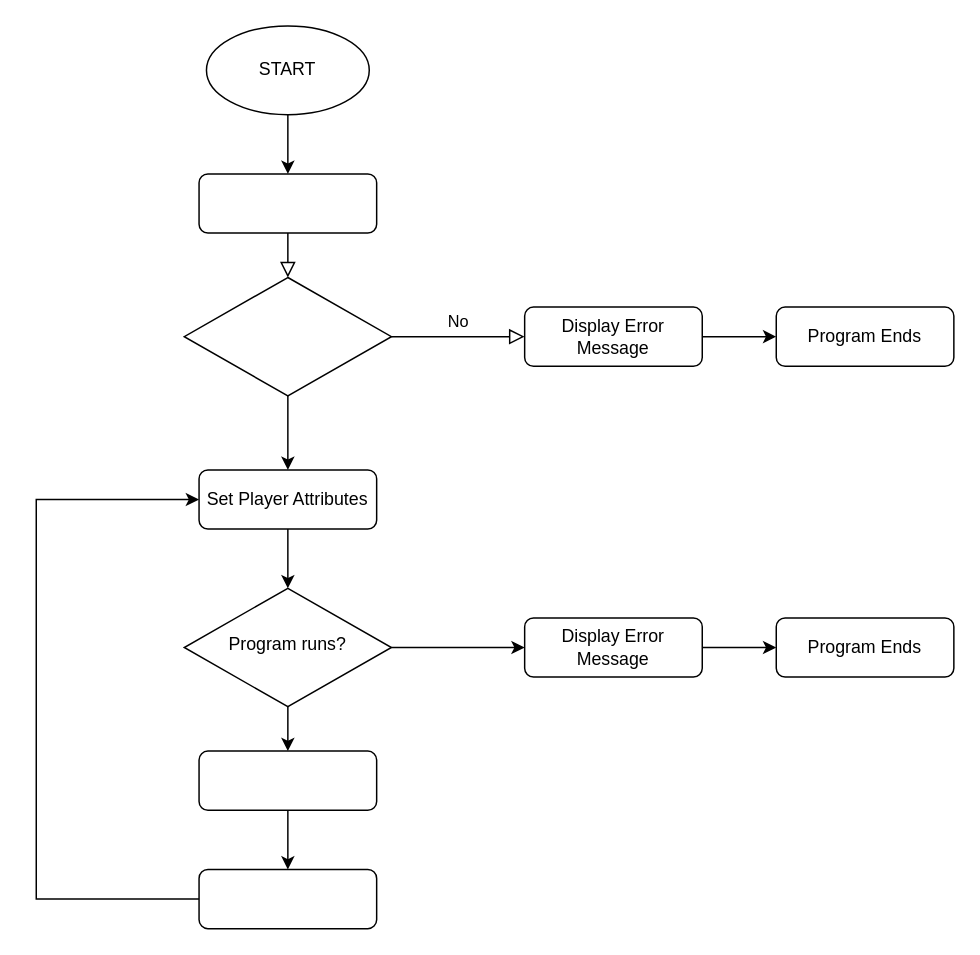
Image size: 980x955. Some labels were removed from this diagram. Each missing label, with the centre of its shape:
Initiale program: point 287,202
Program Start?: point 287,336
Render drawing: point 287,898
Update system: point 287,780
